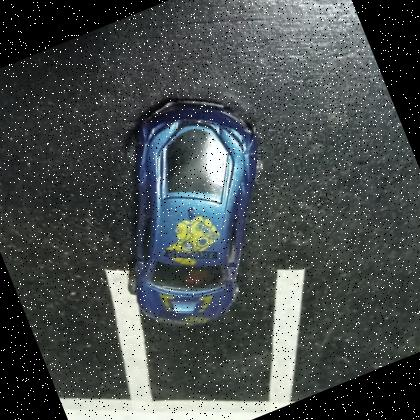Car: (67, 72, 322, 349)
